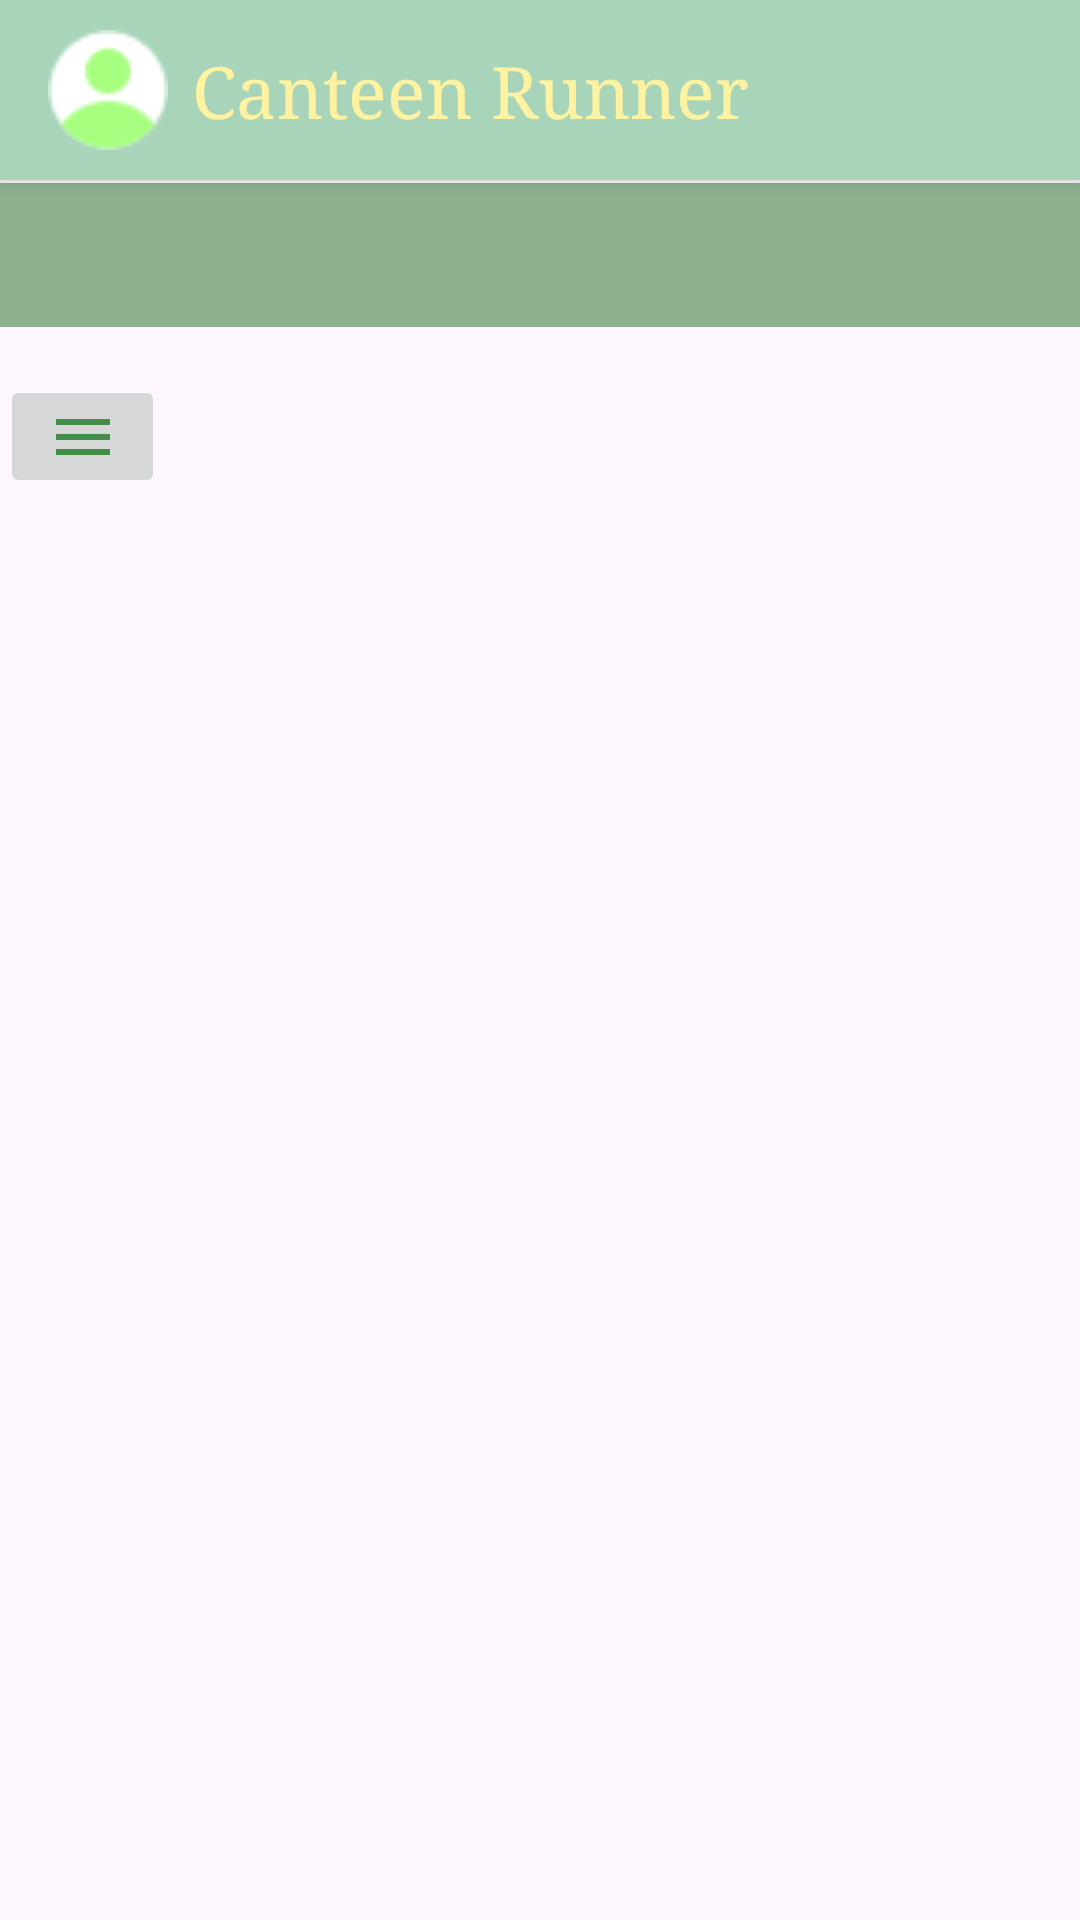

Icons on this 1080 × 1920 Android screen, each with its box as {"left": x1, "top": y1, "right": x2, "bottom": y2}:
menu: {"left": 12, "top": 393, "right": 153, "bottom": 480}
